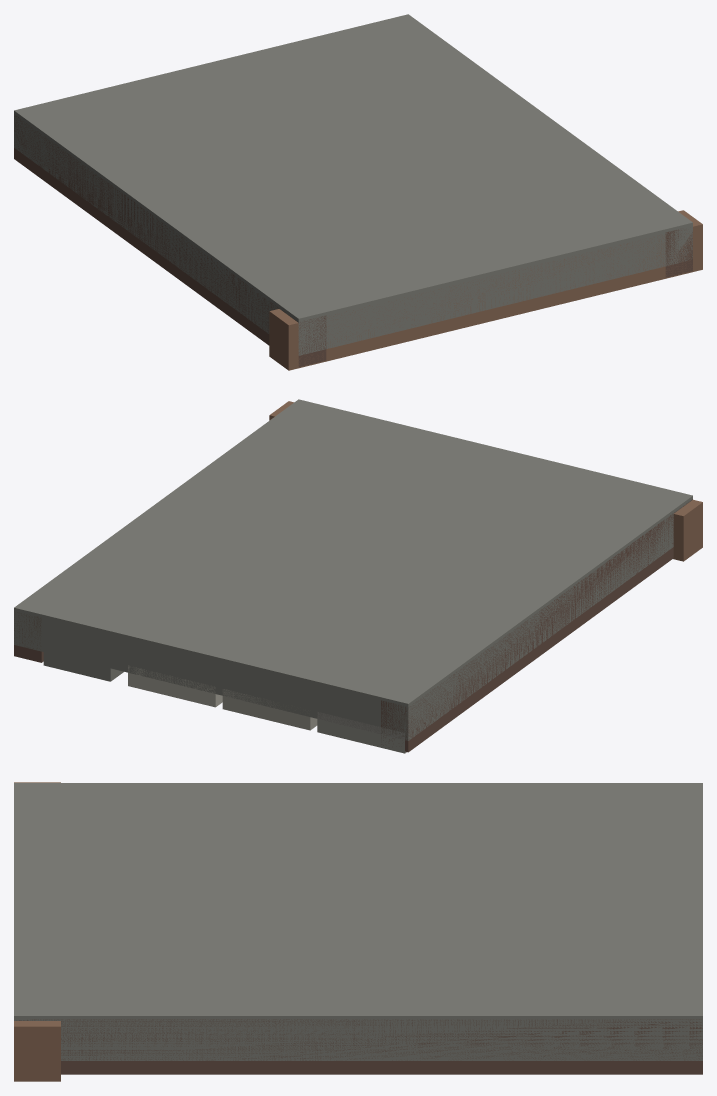
Rendered from tier04_rubble_stone_wall.glb.
3 renders of one model, top to bottom at view 1: azimuth 30°, elevation 25°; view 2: azimuth 150°, elevation 25°; view 3: azimuth 270°, elevation 25°, orthographic. The views are drawn at different scales.
Visible parts, largest first — view 1: tier04_rubble_stone_wall_000, tier04_rubble_stone_wall_033, tier04_rubble_stone_wall_035, tier04_rubble_stone_wall_034; view 2: tier04_rubble_stone_wall_000, tier04_rubble_stone_wall_033, tier04_rubble_stone_wall_001, tier04_rubble_stone_wall_003, tier04_rubble_stone_wall_035, tier04_rubble_stone_wall_002, tier04_rubble_stone_wall_004; view 3: tier04_rubble_stone_wall_000, tier04_rubble_stone_wall_034, tier04_rubble_stone_wall_035.
Boxes of the visible parts, x1,y1,x2,y2 form: tier04_rubble_stone_wall_000: (14, 14, 692, 355); tier04_rubble_stone_wall_033: (14, 115, 326, 366); tier04_rubble_stone_wall_035: (269, 210, 702, 370); tier04_rubble_stone_wall_034: (665, 229, 692, 277); tier04_rubble_stone_wall_000: (14, 399, 692, 740); tier04_rubble_stone_wall_033: (381, 499, 692, 752); tier04_rubble_stone_wall_001: (317, 712, 406, 753); tier04_rubble_stone_wall_003: (128, 665, 222, 707); tier04_rubble_stone_wall_035: (269, 401, 702, 561); tier04_rubble_stone_wall_002: (222, 689, 317, 730); tier04_rubble_stone_wall_004: (43, 645, 123, 681); tier04_rubble_stone_wall_000: (14, 783, 702, 1060); tier04_rubble_stone_wall_034: (16, 1019, 702, 1074); tier04_rubble_stone_wall_035: (14, 782, 60, 1081).
Size of the model in its own units: 2.1 by 0.245 by 2.5.
